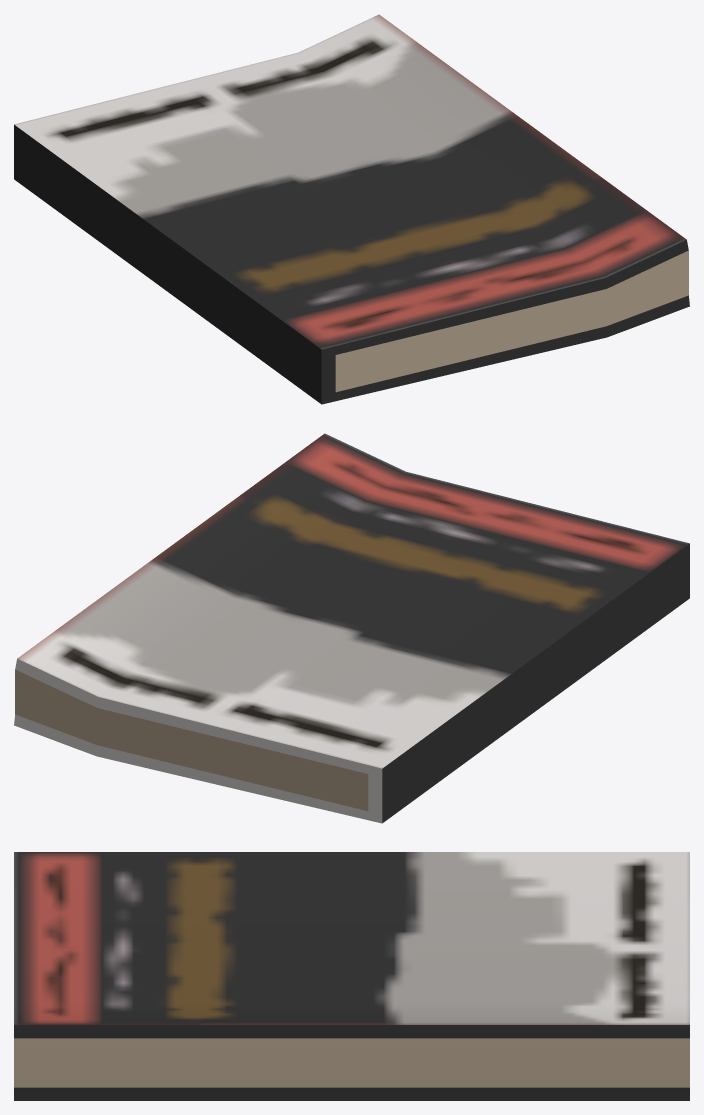
The model's file is SM_Prop_Book_02.glb.
3 renders of one model, top to bottom at view 1: azimuth 30°, elevation 25°; view 2: azimuth 150°, elevation 25°; view 3: azimuth 270°, elevation 25°, orthographic. The views are drawn at different scales.
Parts seen in each view (by area): view 1: SM_Prop_Book_02; view 2: SM_Prop_Book_02; view 3: SM_Prop_Book_02.
Boxes of the visible parts, x1,y1,x2,y2 form: SM_Prop_Book_02: (14,14,689,404); SM_Prop_Book_02: (14,433,689,823); SM_Prop_Book_02: (14,852,689,1100).
Bounding box in the file's own units: 0.3136 × 0.0638 × 0.4538.
1 material, 1 textured.
